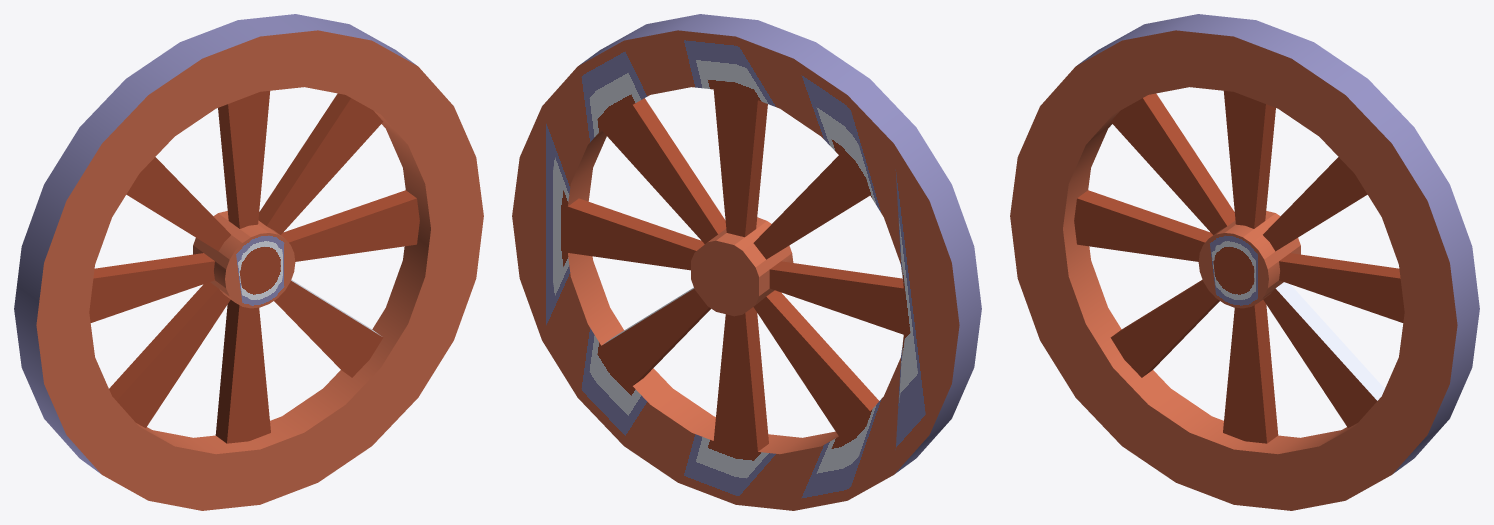
The model's file is Wheel.glb.
3 renders of one model, left to right at view 1: azimuth 30°, elevation 25°; view 2: azimuth 150°, elevation 25°; view 3: azimuth 330°, elevation 25°, orthographic.
Visible parts, largest first — view 1: detail_wagonWheel; view 2: detail_wagonWheel; view 3: detail_wagonWheel.
Part boxes in pixels (box(x1,y1,x2,y2)): detail_wagonWheel: box(14, 14, 483, 510); detail_wagonWheel: box(512, 14, 981, 510); detail_wagonWheel: box(1010, 14, 1479, 510).
Bounding box in the file's own units: 0.6161 × 0.6161 × 0.0787.
Materials: 1 (1 with a texture image).
